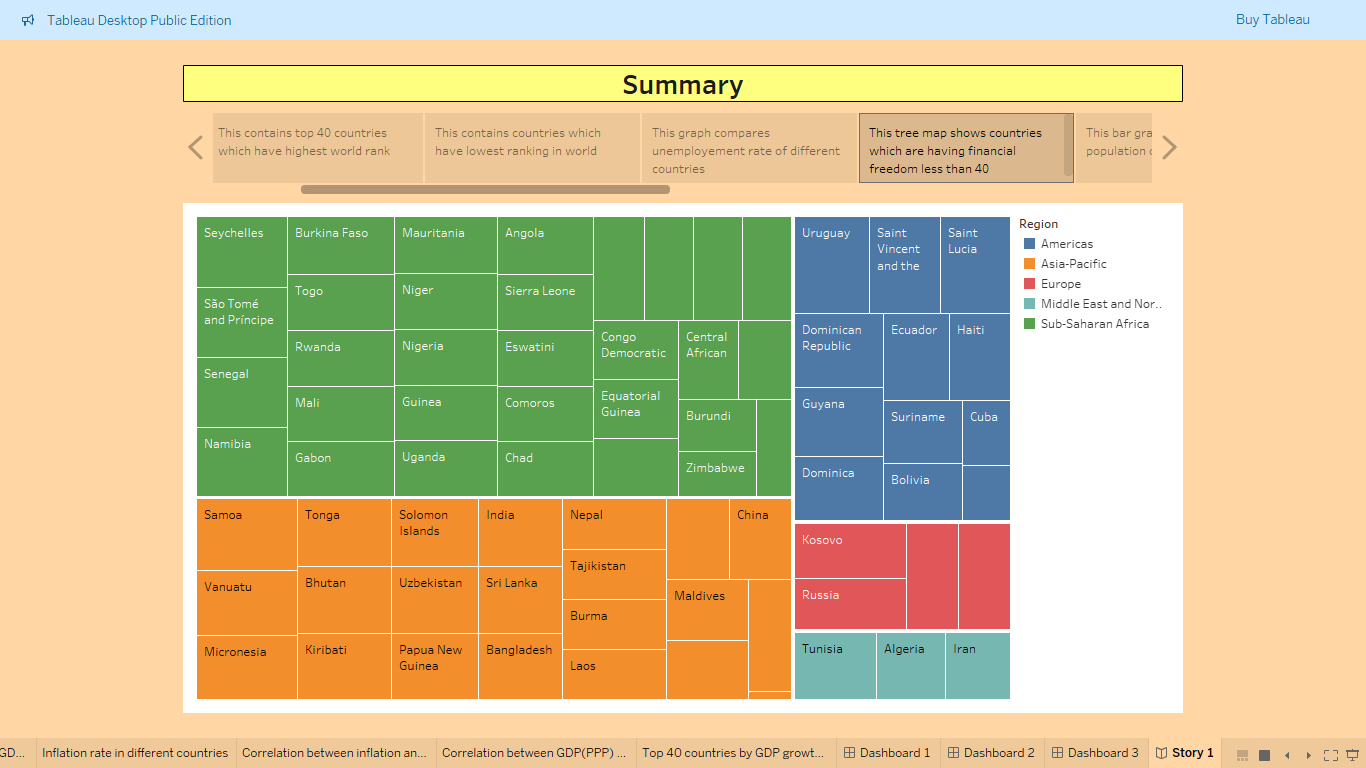

What the dashboard file says about the page in this screenshot:
{"tool":"tableau","page":{"name":"Dashboard 2","canvas":[1000,1000],"units":"permille","ordinal":1},"visuals":[{"type":"title","box":[9.4,10.5,981.2,54]},{"type":"worksheet","title":"Index score based on financial freedom","mark":"Automatic","box":[8.2,63.2,636.5,513.2]}]}

Visuals, with their boxes on the dashboard's canvas, which has no fixed pixel size, in thousandths of its width and height (x1, y1, x2, y2). These are canvas units, not pixel positions in the 1366x768 screenshot, which may show the page scaled, cropped or inside an application window:
title: Rect(9, 10, 991, 64)
"Index score based on financial freedom" worksheet: Rect(8, 63, 645, 576)
